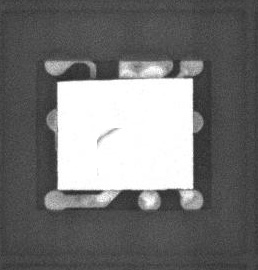DIE_INK: (96, 128, 121, 143), (94, 165, 101, 175)
